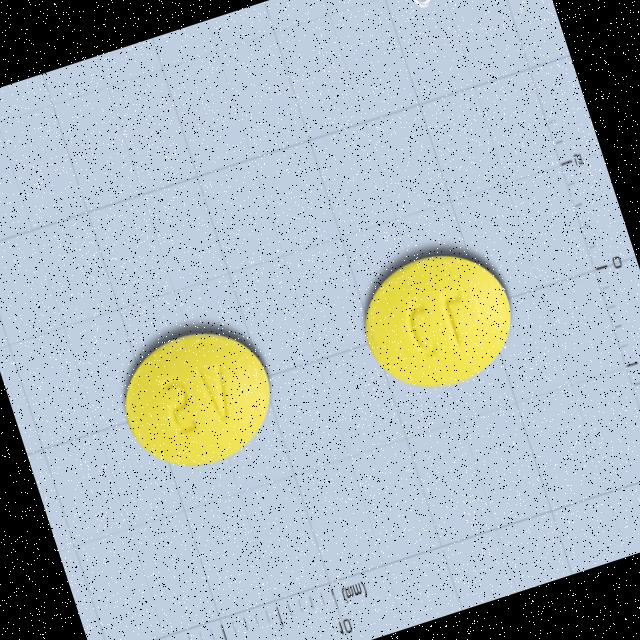CLARIUM: (104, 309, 292, 489), (347, 233, 533, 410)
